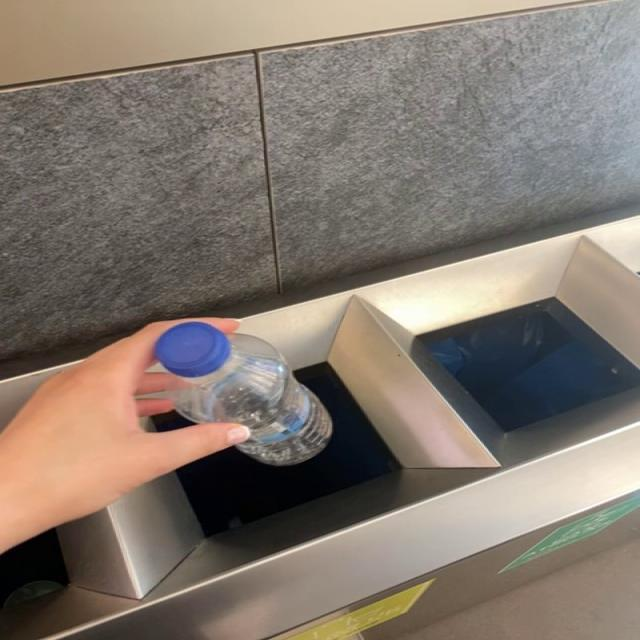Plastic: (155, 322, 333, 466)
